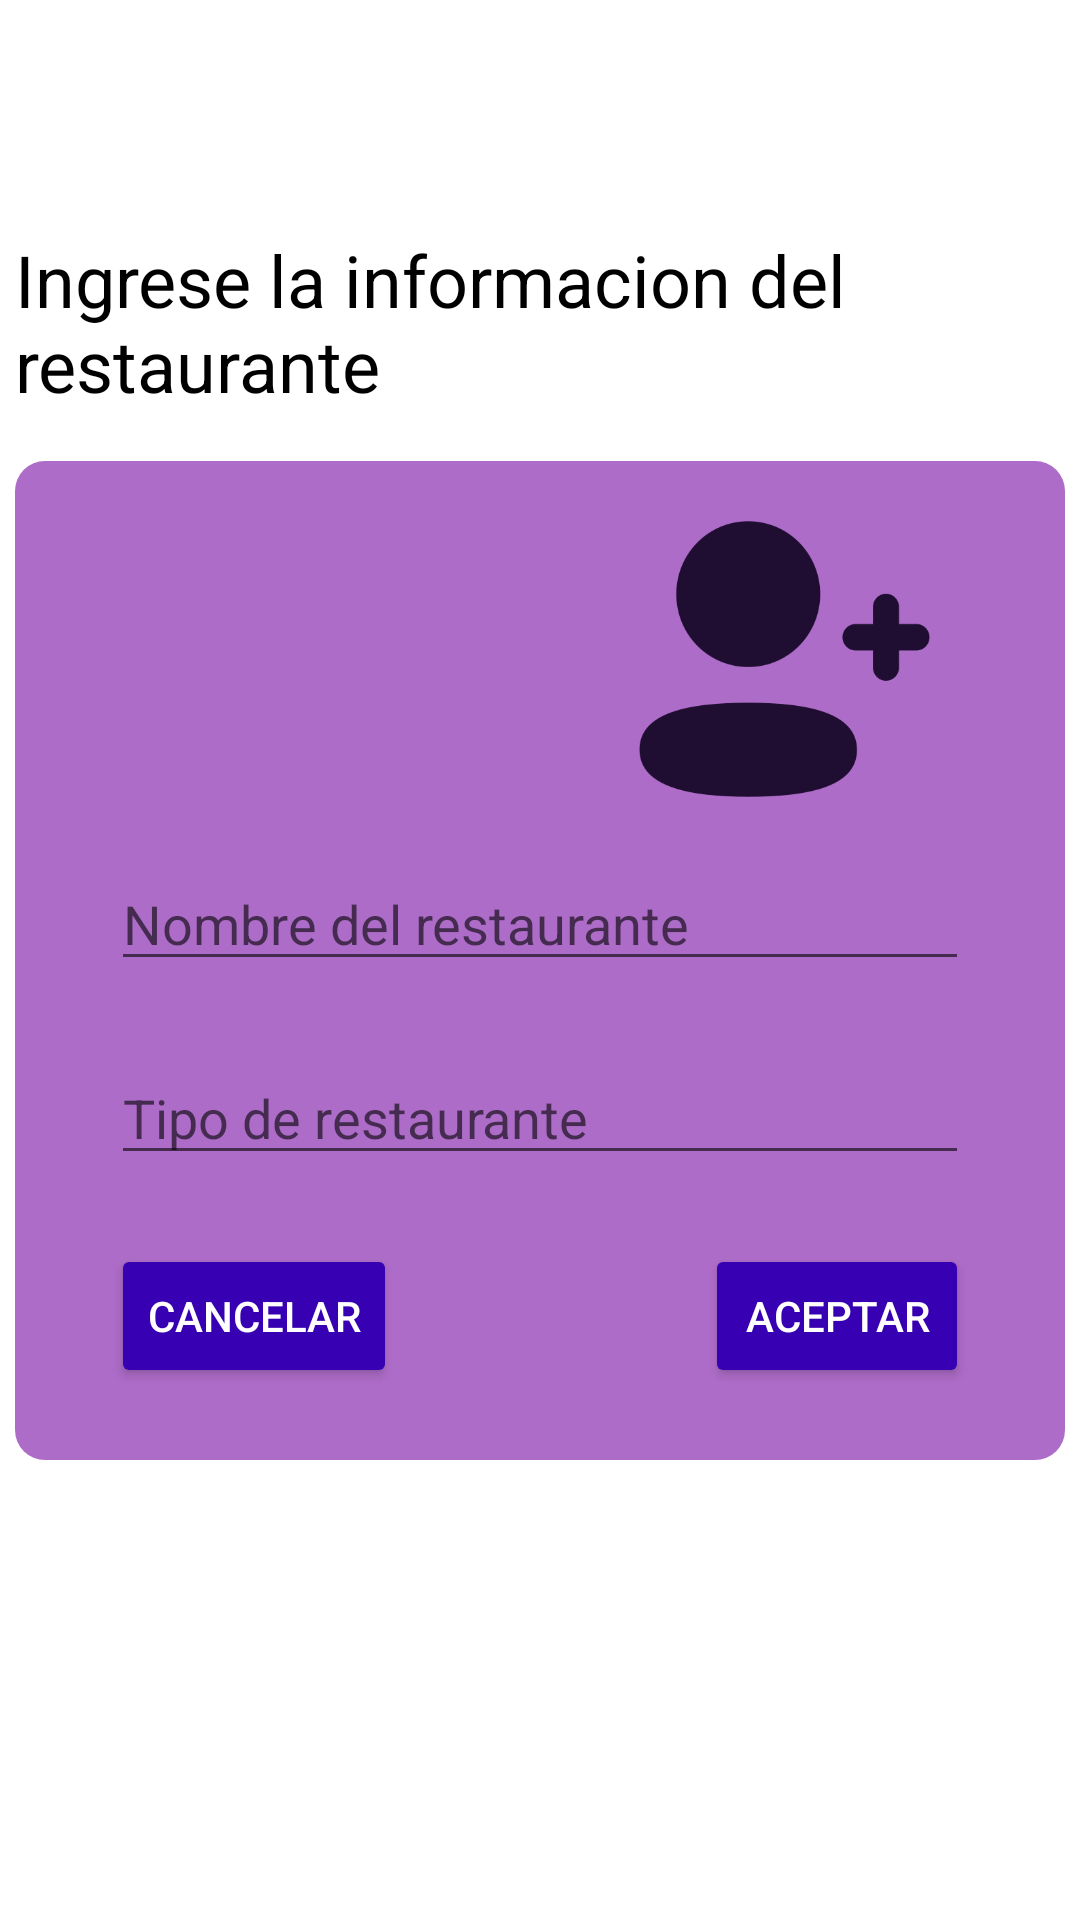

Locate icon controls on the screen. Image size 1080x1920, boxes as [x1,y1,x2,y2].
add user: [639,521,930,797]
